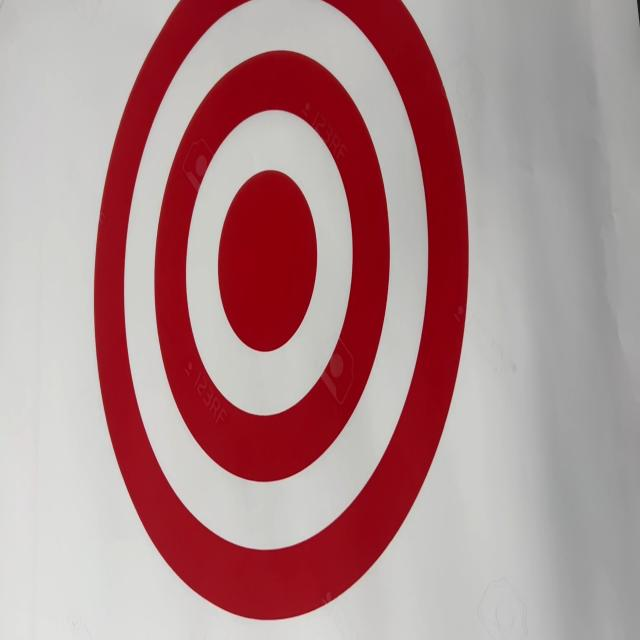target_red: (83, 1, 479, 631)
